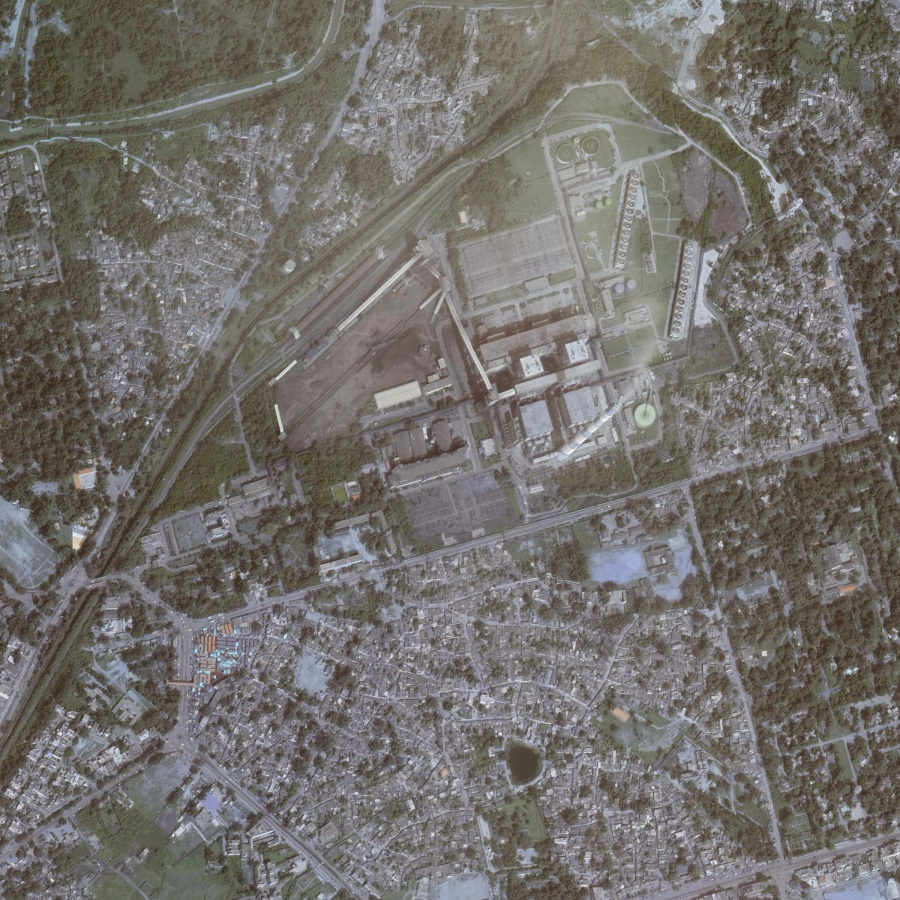PowerPlant: (271, 130, 713, 484)
